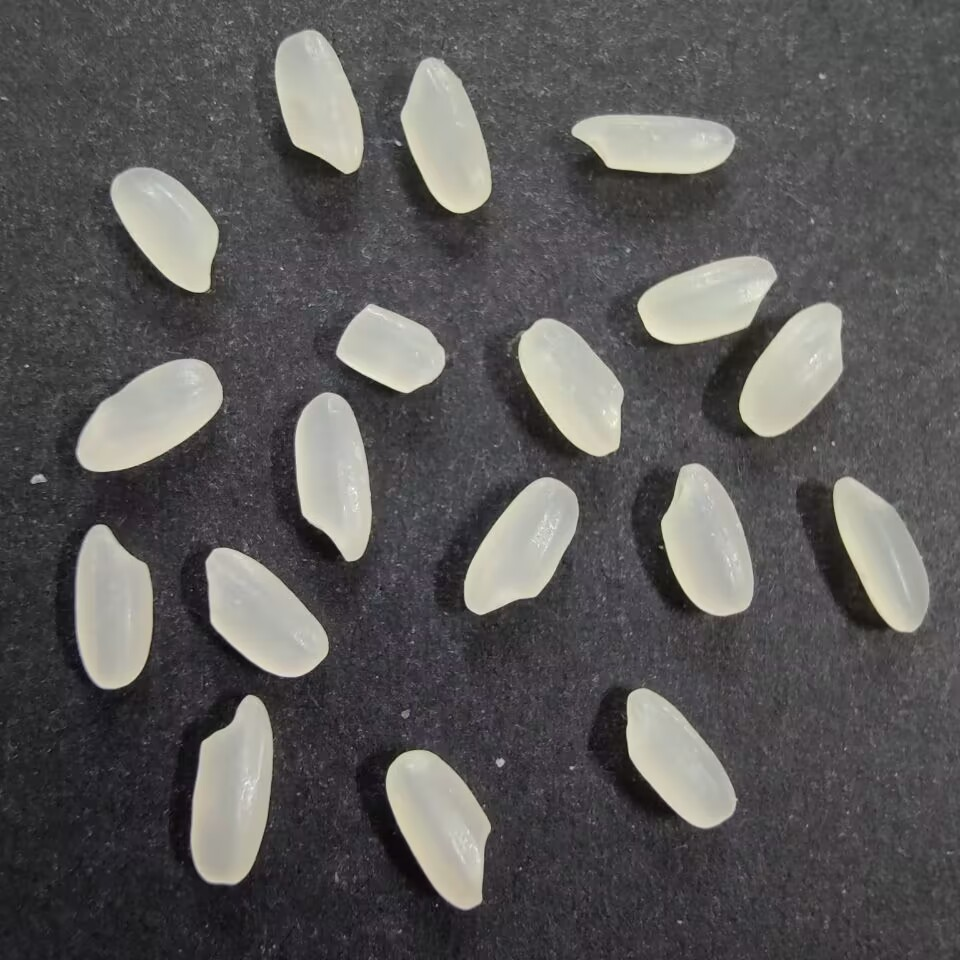broken: (333, 301, 451, 394)
rice: (185, 690, 278, 892), (384, 747, 496, 914), (70, 354, 223, 476), (619, 688, 745, 833), (198, 546, 332, 679), (462, 472, 583, 618), (829, 473, 932, 635), (394, 54, 495, 215), (657, 458, 757, 620), (516, 316, 627, 460), (67, 523, 160, 693), (287, 387, 377, 562), (736, 299, 848, 439), (106, 165, 225, 295), (270, 28, 368, 181), (634, 251, 780, 346), (565, 110, 738, 179)
